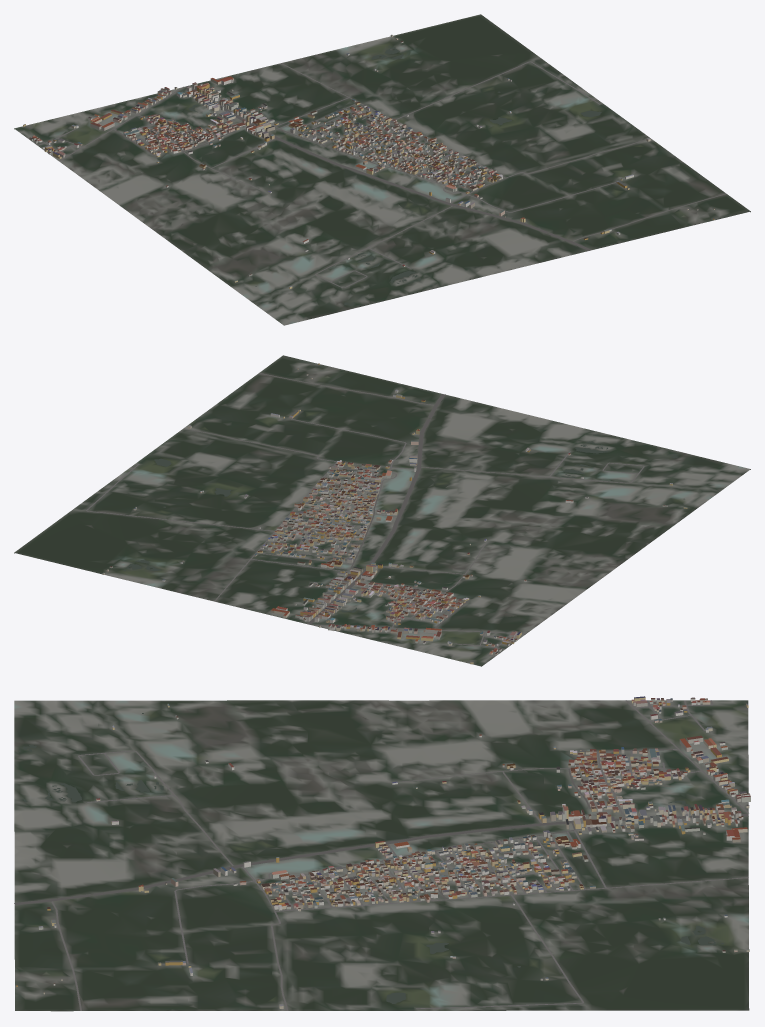
3 views of the same model, one above another, from view 1: azimuth 30°, elevation 25°; view 2: azimuth 150°, elevation 25°; view 3: azimuth 270°, elevation 25° (orthographic). The views are drawn at different scales.
Parts seen in each view (by area): view 1: ground, buildings, roads, water; view 2: ground, buildings, roads, water; view 3: ground, buildings, roads, water.
Boxes of the visible parts, x1,y1,x2,y2 form: ground: [14, 14, 750, 325]; buildings: [23, 34, 714, 288]; roads: [27, 61, 726, 287]; water: [188, 45, 601, 305]; ground: [14, 355, 750, 666]; buildings: [102, 363, 687, 664]; roads: [86, 373, 644, 656]; water: [123, 434, 684, 612]; ground: [14, 700, 749, 1011]; buildings: [16, 696, 750, 1008]; roads: [14, 700, 748, 1010]; water: [19, 713, 723, 1003].
Bounding box in the file's own units: 1406 × 26.06 × 1407.
